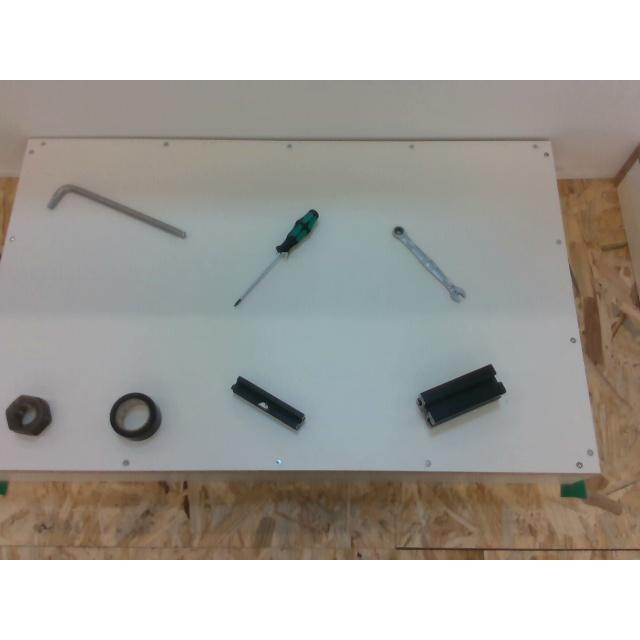AllenKey: (46, 184, 186, 236)
F20_20_B: (231, 376, 305, 428)
M30: (5, 395, 50, 435)
S40_40_B: (418, 364, 508, 428)
Screwdriver: (234, 210, 318, 306)
Wrench: (391, 225, 467, 302)
